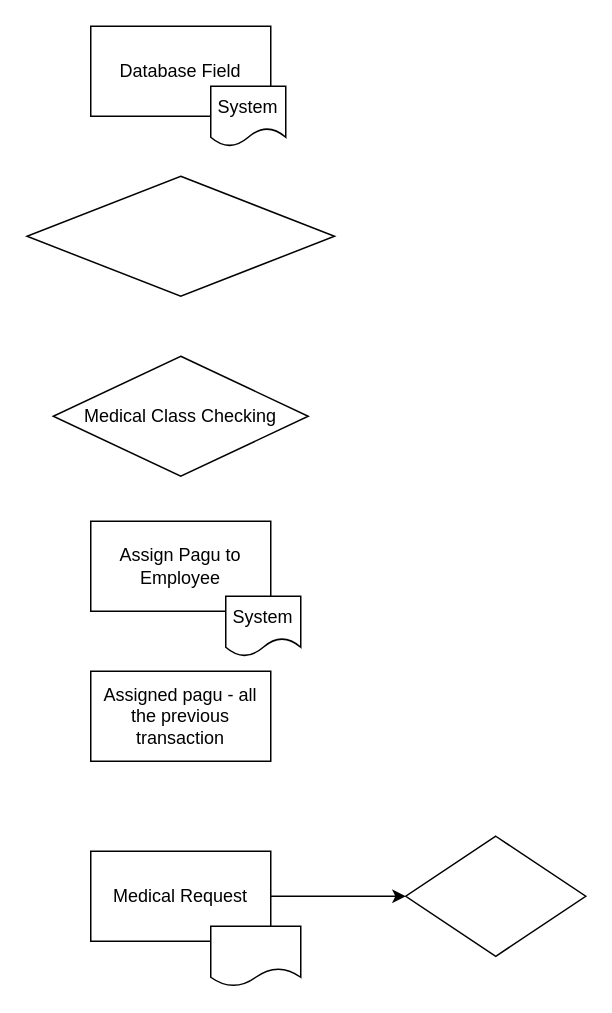
Some shapes in this 612 by 1013 pixel diagram are drawn without their labels. Here are the shapes that lost their labels. From the top down, the centre of each, then its label:
At point (180, 235): "Management Group Checking".
At point (495, 895): "Approved?".
At point (255, 955): "employee".
